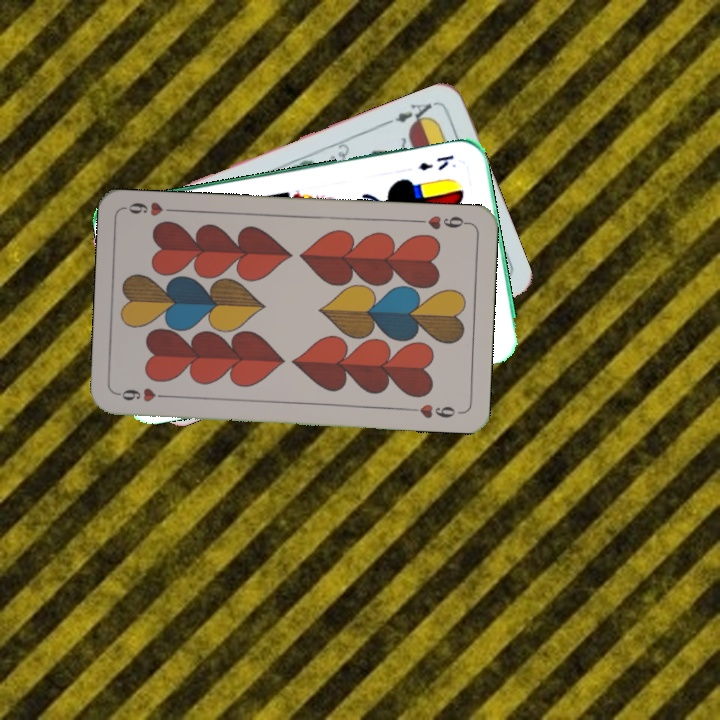EA: (391, 99, 437, 130)
EK: (414, 151, 457, 173)
H9: (115, 383, 174, 405), (413, 211, 472, 232)
